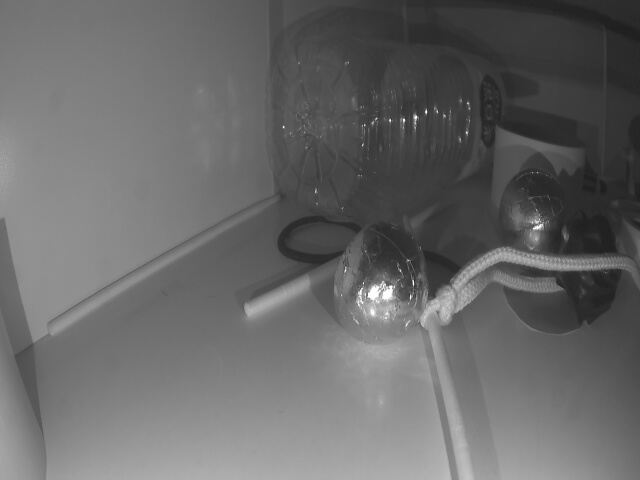Live: (336, 222, 433, 338), (501, 171, 564, 254)
